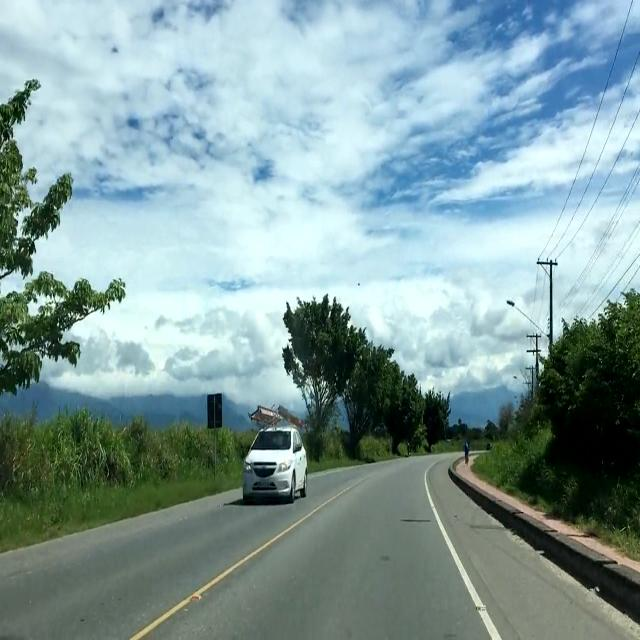lane: (128, 497, 330, 640), (424, 480, 503, 640)
road: (0, 453, 640, 639)
